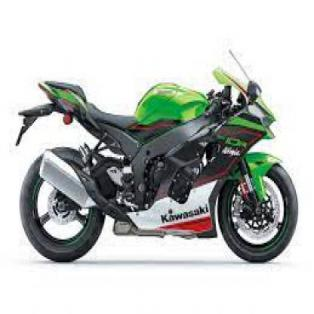Motocicleta: (12, 42, 301, 268)
